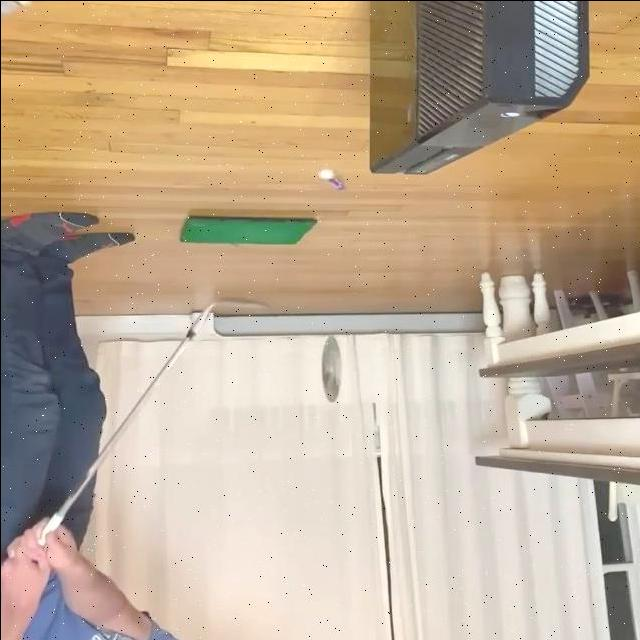golf club-handle: (16, 294, 274, 570)
golf club-head: (212, 297, 271, 310)
